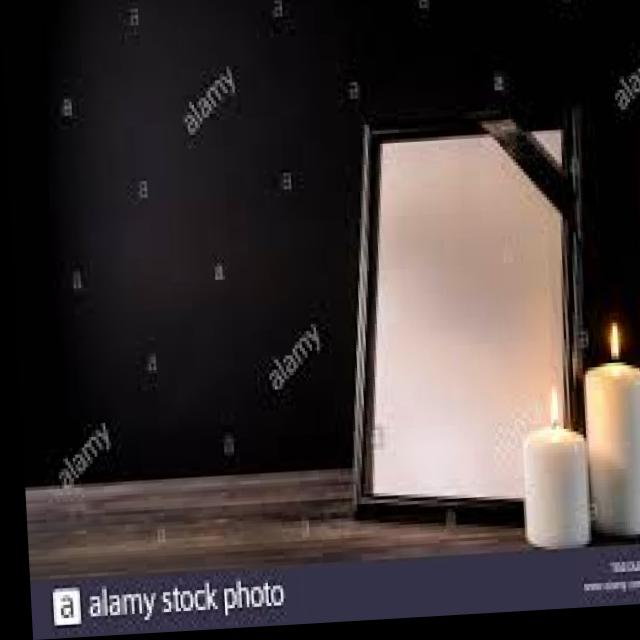fire: (534, 383, 556, 430), (598, 323, 617, 371)
